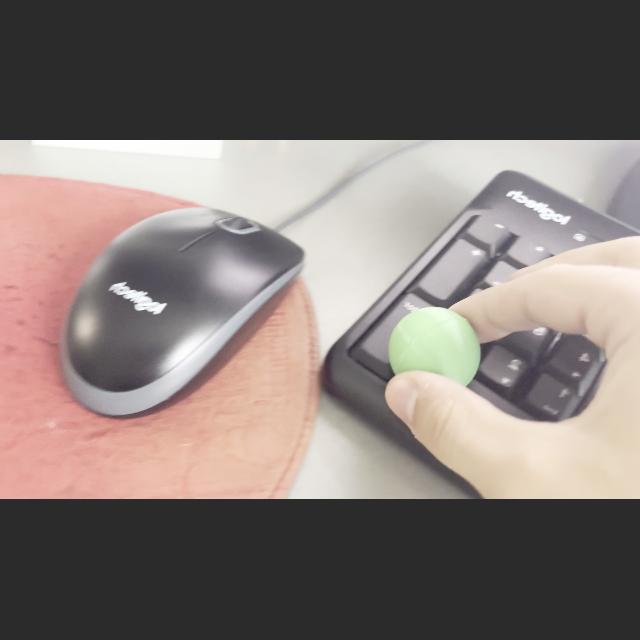objects: (386, 304, 482, 388)
